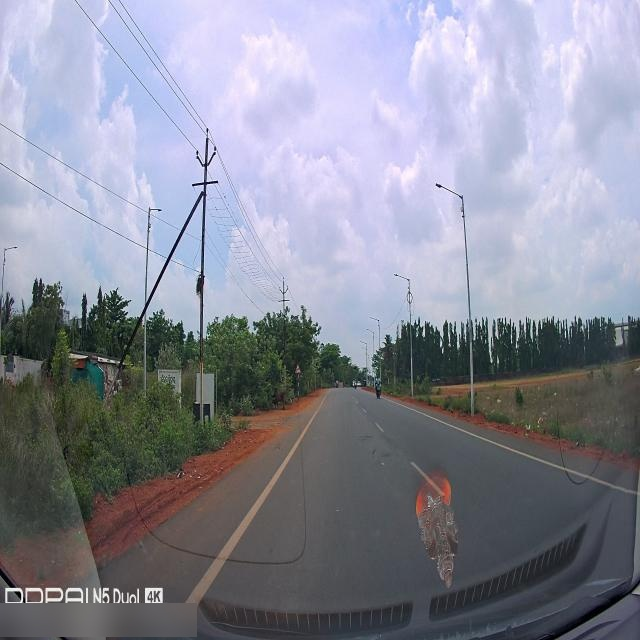pothole: (357, 426, 375, 442), (371, 448, 390, 459)
